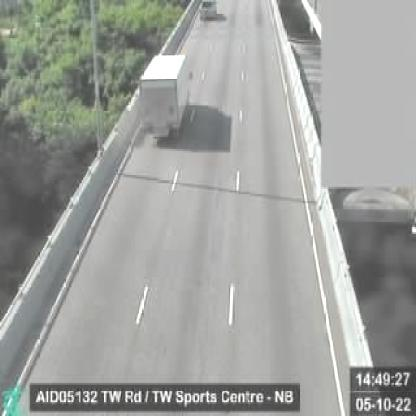Truck: (140, 54, 186, 142)
